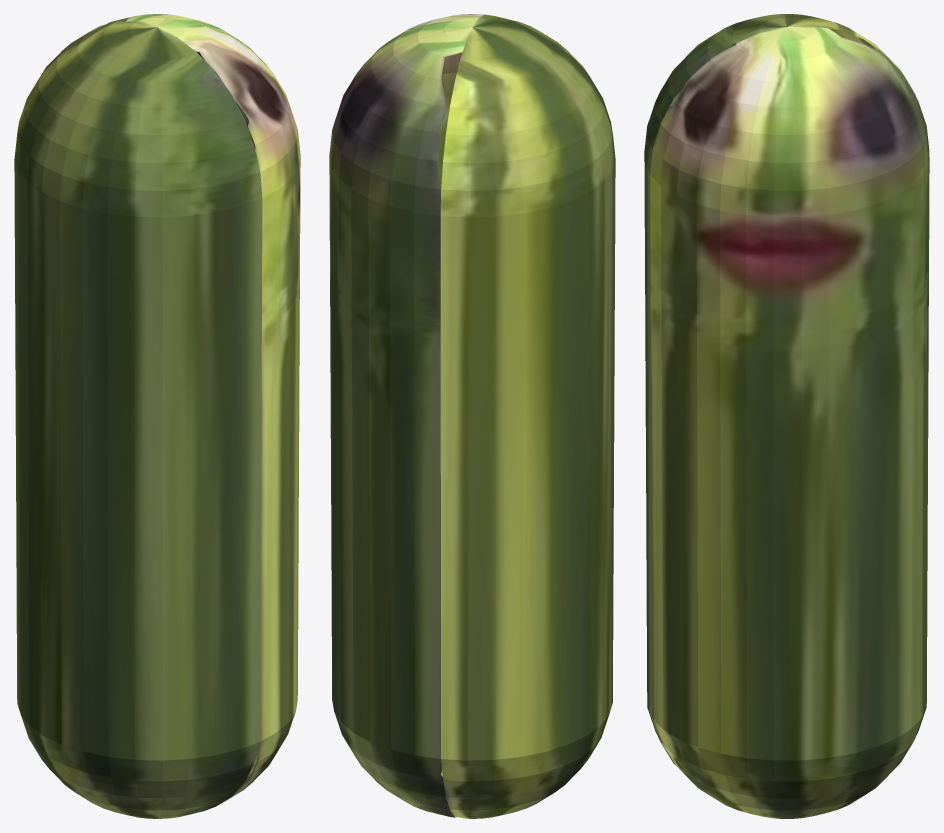
Rendered from xigua5.fbx.
3 renders of one model, left to right at view 1: azimuth 30°, elevation 25°; view 2: azimuth 150°, elevation 25°; view 3: azimuth 270°, elevation 25°, orthographic.
Visible parts, largest first — view 1: 球体; view 2: 球体; view 3: 球体.
Boxes of the visible parts, bbox=[...] form: 球体: bbox=[14, 14, 300, 818]; 球体: bbox=[329, 14, 615, 818]; 球体: bbox=[644, 14, 929, 818].
Bounding box in the file's own units: 199 × 600 × 199.
Materials: 1 (1 with a texture image).
